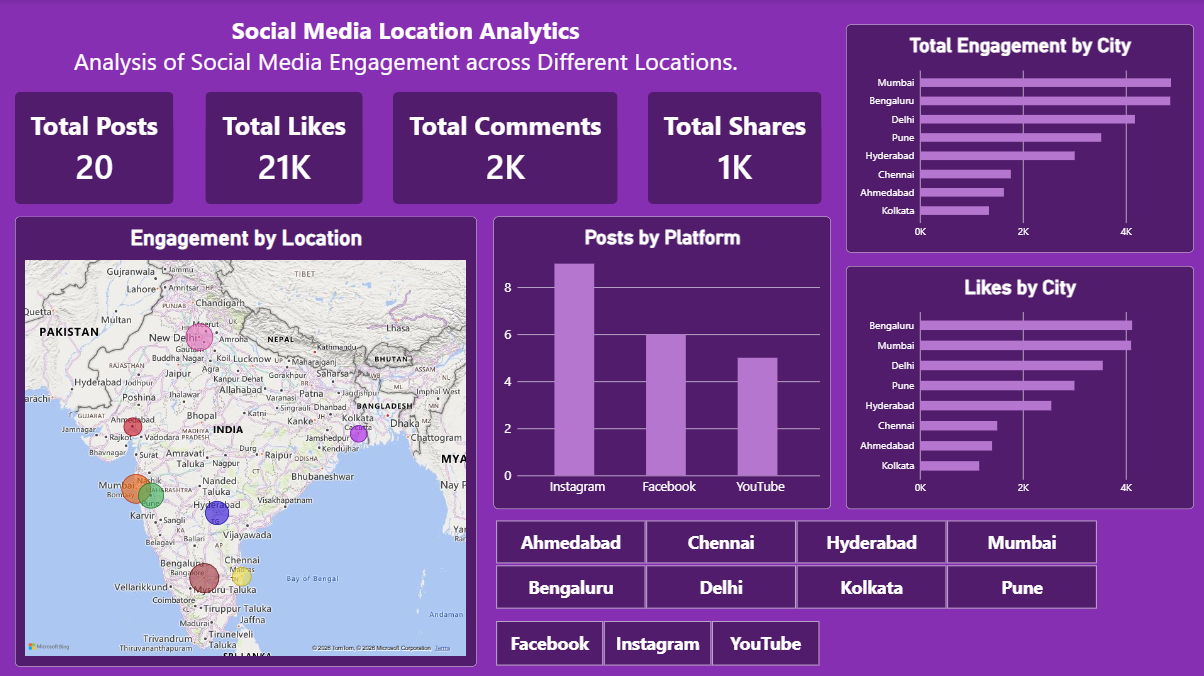

The dashboard page shown, as its layout file describes it:
{"tool":"powerbi","page":{"name":"Page 1","canvas":[1920,1080],"ordinal":0},"visuals":[{"type":"cardVisual","fields":{"Data":["CountNonNull(Sheet1.Post_ID)"]},"box":[23.9,147.9,252.9,178.9],"z":0},{"type":"cardVisual","fields":{"Data":["Sum(Sheet1.Likes)"]},"box":[326.9,147.9,250.5,178.9],"z":1000},{"type":"cardVisual","fields":{"Data":["Sum(Sheet1.Comments)"]},"box":[625.1,147.9,357.9,178.9],"z":2000},{"type":"cardVisual","fields":{"Data":["Sum(Sheet1.Shares)"]},"box":[1030.7,147.9,276.8,178.9],"z":3000},{"type":"map","title":"Engagement by Location","fields":{"Category":["Sheet1.City"],"Size":["Sum(Sheet1.Likes)"]},"box":[23.9,346,734.9,715.8],"z":4000},{"type":"clusteredBarChart","title":"Likes by City","fields":{"Category":["Sheet1.City"],"Y":["Sum(Sheet1.Likes)"]},"box":[1345.7,424.7,553.5,386.5],"z":5000},{"type":"columnChart","title":"Posts by Platform","fields":{"Category":["Sheet1.Platform"],"Y":["CountNonNull(Sheet1.Post_ID)"]},"box":[785,346,536.8,465.3],"z":6000},{"type":"barChart","title":"Total Engagement by City","fields":{"Category":["Sheet1.City"],"Y":["Sheet1.Total Engagement"]},"box":[1345.7,40.6,553.5,362.7],"z":7000},{"type":"slicer","fields":{"Values":["Sheet1.City"]},"box":[768.3,827.9,994.9,143.2],"z":8000},{"type":"slicer","fields":{"Values":["Sheet1.Platform"]},"box":[768.3,987.8,553.5,74],"z":9000},{"type":"textbox","box":[35.8,23.9,1219.2,107.4],"z":10000}]}

Visuals, with their boxes in screenshot pixels (x1, y1, x2, y2), scaled from the page's 1920x1080 canvas onto the 1204x676 screenshot:
cardVisual - CountNonNull(Sheet1.Post_ID): bbox=(15, 93, 174, 205)
cardVisual - Sum(Sheet1.Likes): bbox=(205, 93, 362, 205)
cardVisual - Sum(Sheet1.Comments): bbox=(392, 93, 616, 205)
cardVisual - Sum(Sheet1.Shares): bbox=(646, 93, 820, 205)
"Engagement by Location" map: bbox=(15, 217, 476, 665)
"Likes by City" clusteredBarChart: bbox=(844, 266, 1191, 508)
"Posts by Platform" columnChart: bbox=(492, 217, 829, 508)
"Total Engagement by City" barChart: bbox=(844, 25, 1191, 252)
slicer - Sheet1.City: bbox=(482, 518, 1106, 608)
slicer - Sheet1.Platform: bbox=(482, 618, 829, 665)
textbox: bbox=(22, 15, 787, 82)
